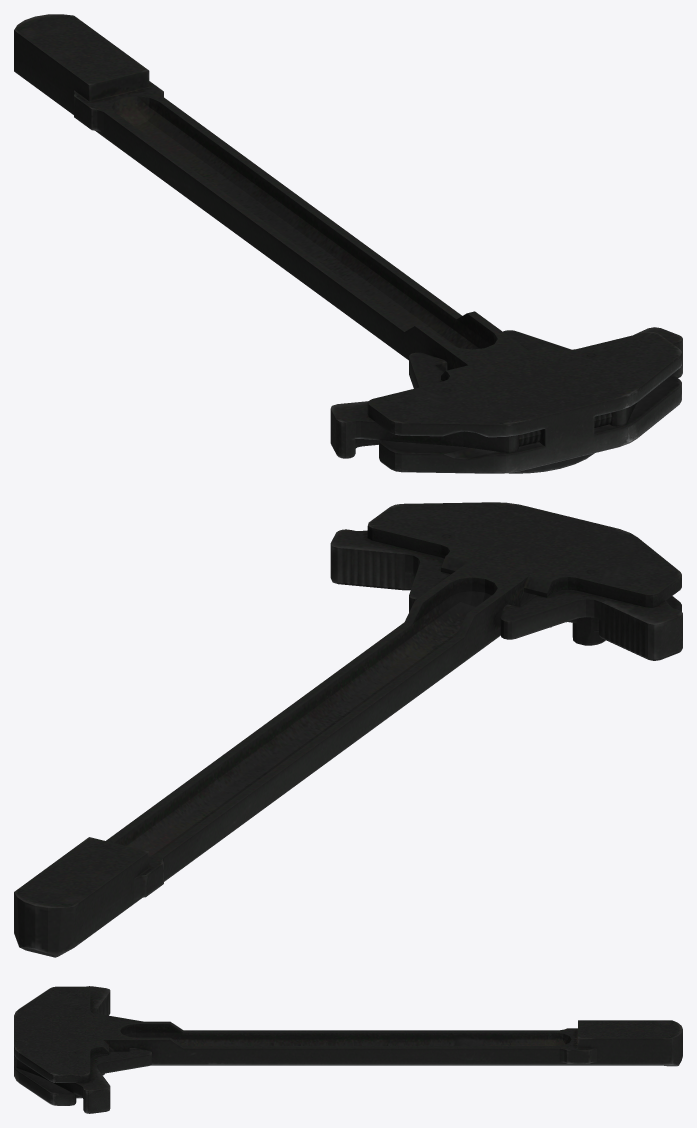
3 renders of one model, top to bottom at view 1: azimuth 30°, elevation 25°; view 2: azimuth 150°, elevation 25°; view 3: azimuth 270°, elevation 25°, orthographic. The views are drawn at different scales.
Parts seen in each view (by area): view 1: TW_5fbcc640016cce60e8341acc_PZ_Import; view 2: TW_5fbcc640016cce60e8341acc_PZ_Import; view 3: TW_5fbcc640016cce60e8341acc_PZ_Import.
Boxes of the visible parts, bbox=[...] form: TW_5fbcc640016cce60e8341acc_PZ_Import: bbox=[14, 14, 682, 473]; TW_5fbcc640016cce60e8341acc_PZ_Import: bbox=[14, 502, 682, 957]; TW_5fbcc640016cce60e8341acc_PZ_Import: bbox=[14, 986, 682, 1113].
Bounding box in the file's own units: 0.0361 × 0.0973 × 0.00682.
Materials: 1 (1 with a texture image).
